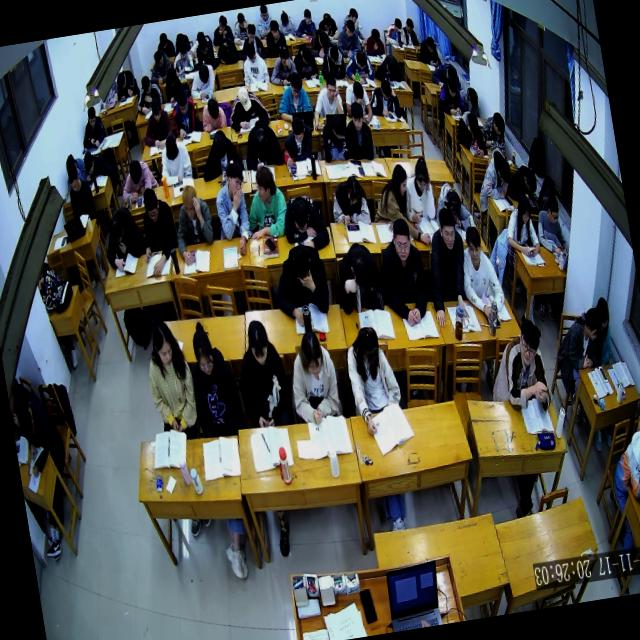bow: (278, 188, 332, 254), (100, 204, 148, 275), (239, 116, 287, 178), (430, 174, 477, 236), (196, 124, 246, 182), (224, 79, 272, 137), (116, 154, 162, 208), (504, 162, 540, 205), (342, 44, 375, 86), (80, 146, 115, 184), (372, 52, 403, 88), (161, 64, 187, 106), (429, 59, 462, 92), (304, 24, 332, 57), (114, 67, 140, 101), (213, 33, 240, 65)
down: (12, 386, 68, 479), (296, 326, 326, 376), (190, 324, 218, 376), (354, 324, 384, 370), (245, 317, 272, 367), (150, 320, 178, 368), (349, 244, 376, 290), (178, 184, 202, 222), (288, 197, 312, 234), (141, 184, 163, 224), (290, 243, 313, 281), (16, 404, 36, 442), (582, 304, 602, 342), (412, 155, 432, 193), (108, 216, 129, 250), (445, 186, 464, 222), (594, 293, 612, 329), (343, 173, 362, 206), (252, 127, 270, 161), (348, 98, 366, 132), (328, 112, 348, 142), (516, 192, 534, 225), (494, 156, 513, 187), (211, 130, 229, 162), (236, 84, 254, 115), (64, 162, 82, 192), (286, 70, 304, 100), (162, 132, 180, 162), (174, 88, 191, 118), (545, 194, 562, 224), (149, 94, 165, 124), (522, 166, 538, 196), (127, 158, 144, 186), (323, 72, 339, 101), (465, 109, 481, 138), (290, 116, 306, 144), (491, 110, 507, 138), (348, 80, 366, 104), (81, 150, 96, 178), (378, 74, 394, 99), (445, 72, 460, 98), (138, 72, 153, 96), (198, 63, 212, 87), (244, 40, 258, 64), (354, 46, 368, 70), (466, 86, 480, 110), (206, 97, 221, 119), (114, 68, 128, 90), (343, 16, 357, 38), (384, 54, 398, 76), (85, 105, 98, 128), (278, 46, 292, 67), (268, 19, 281, 41), (152, 48, 166, 68), (166, 66, 178, 89), (176, 39, 189, 60), (245, 23, 258, 44), (299, 44, 312, 65), (328, 44, 341, 65), (198, 34, 210, 56), (370, 24, 382, 46), (217, 44, 230, 64), (316, 30, 329, 50), (217, 13, 229, 33), (322, 12, 334, 32), (424, 35, 436, 55), (158, 31, 170, 50), (235, 10, 246, 30), (258, 5, 270, 23), (278, 10, 290, 28), (404, 17, 416, 35), (302, 8, 313, 26), (392, 18, 403, 36), (284, 31, 296, 43), (282, 74, 292, 88), (172, 179, 184, 190)
lookup: (514, 314, 544, 365), (388, 214, 414, 262), (436, 206, 460, 254), (464, 222, 486, 264)
sit: (139, 316, 203, 444), (340, 322, 408, 439), (228, 315, 296, 431), (417, 201, 477, 330), (480, 313, 554, 417), (182, 320, 246, 440), (370, 212, 434, 328), (282, 323, 344, 425), (268, 239, 336, 331), (455, 222, 509, 322), (208, 158, 258, 258), (132, 182, 184, 278), (332, 236, 388, 319), (168, 178, 218, 266), (240, 162, 292, 243), (550, 306, 606, 374), (364, 158, 414, 225), (396, 150, 438, 224), (603, 425, 640, 506), (500, 192, 542, 262), (153, 130, 196, 190), (327, 172, 372, 228), (306, 72, 347, 133), (272, 68, 316, 124), (474, 146, 516, 204), (276, 112, 316, 170), (532, 192, 568, 256), (342, 99, 376, 164), (138, 94, 176, 150), (63, 160, 97, 222), (587, 292, 617, 362), (316, 108, 352, 163), (166, 84, 202, 138), (454, 106, 488, 162), (365, 72, 403, 121), (264, 41, 301, 90), (341, 75, 375, 123), (130, 70, 166, 114), (237, 37, 270, 85), (478, 110, 510, 158), (434, 70, 466, 116), (78, 101, 108, 148), (187, 61, 220, 103), (317, 42, 348, 84), (334, 15, 364, 57), (190, 30, 220, 70), (237, 22, 267, 62), (198, 95, 228, 134), (262, 18, 290, 59), (292, 41, 321, 80), (146, 46, 174, 86), (168, 37, 195, 76), (208, 13, 236, 49), (292, 6, 319, 41), (253, 4, 277, 40), (382, 12, 408, 45), (230, 9, 253, 46), (416, 34, 442, 66), (459, 85, 482, 120), (362, 24, 386, 56), (154, 27, 177, 58), (316, 9, 339, 40), (276, 6, 298, 36), (402, 16, 419, 48)
